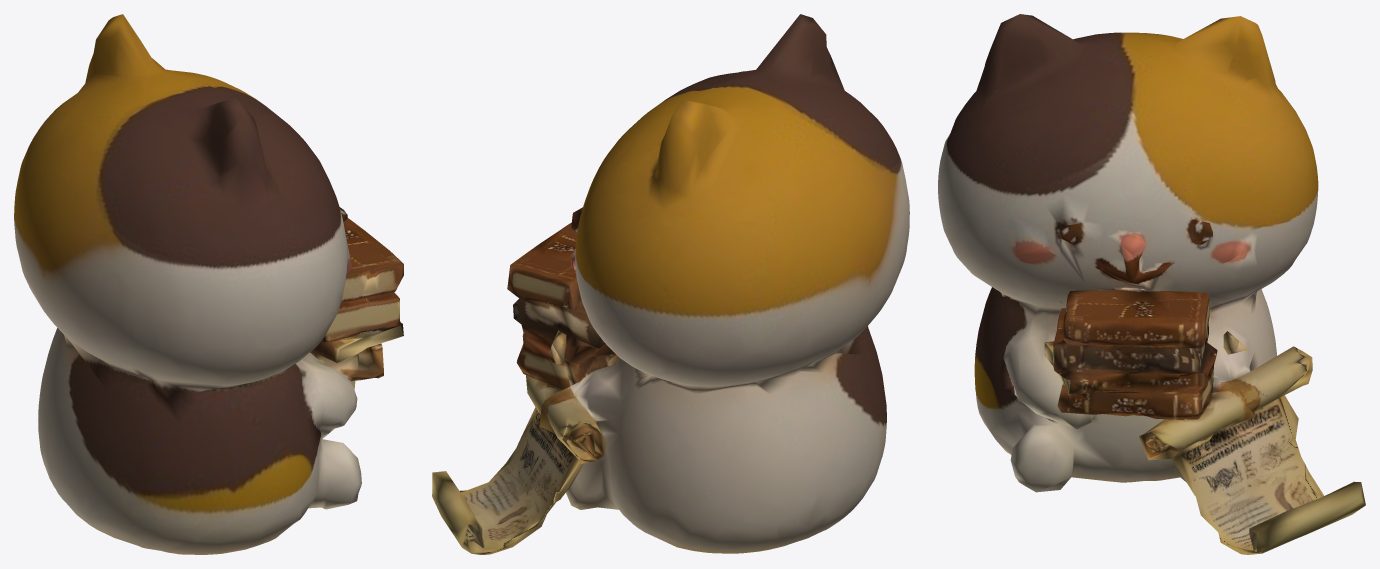
File: cat_upgrade.glb
3 views of the same model, side by side, from view 1: azimuth 30°, elevation 25°; view 2: azimuth 150°, elevation 25°; view 3: azimuth 270°, elevation 25° (orthographic). The views are drawn at different scales.
Visible parts, largest first — view 1: tripo_node_ea2d2a02-4c0f-468a-ac5b-e247817bfc11; view 2: tripo_node_ea2d2a02-4c0f-468a-ac5b-e247817bfc11; view 3: tripo_node_ea2d2a02-4c0f-468a-ac5b-e247817bfc11.
Part boxes in pixels (x1,y1,x2,y2): tripo_node_ea2d2a02-4c0f-468a-ac5b-e247817bfc11: (14,14,403,554); tripo_node_ea2d2a02-4c0f-468a-ac5b-e247817bfc11: (432,14,909,554); tripo_node_ea2d2a02-4c0f-468a-ac5b-e247817bfc11: (938,14,1365,554).
Size of the model in its own units: 0.8613 by 0.9987 by 0.8919.
1 material, 1 textured.
